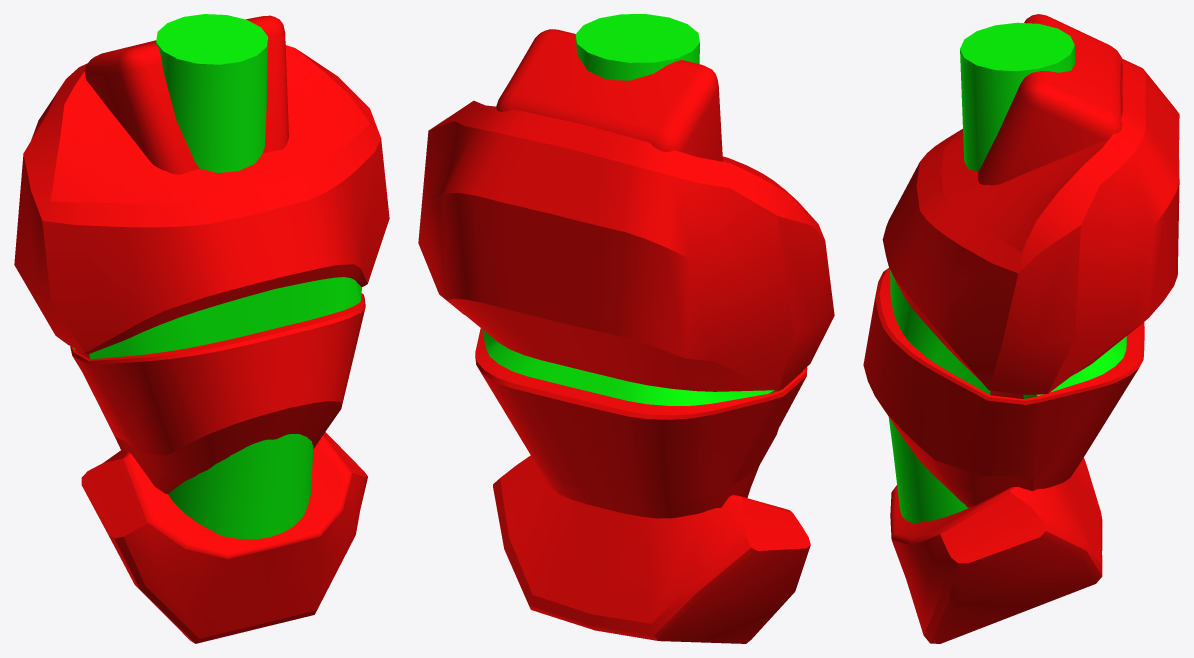
File: Treble_Body.fbx
3 renders of one model, left to right at view 1: azimuth 30°, elevation 25°; view 2: azimuth 150°, elevation 25°; view 3: azimuth 270°, elevation 25°, orthographic. The views are drawn at different scales.
Visible parts, largest first — view 1: Treble_Body; view 2: Treble_Body; view 3: Treble_Body.
Part boxes in pixels (<box>): Treble_Body: <box>14,14,389,643</box>; Treble_Body: <box>418,14,834,643</box>; Treble_Body: <box>863,14,1179,643</box>.
Size of the model in its own units: 35.44 by 56.03 by 28.2.
